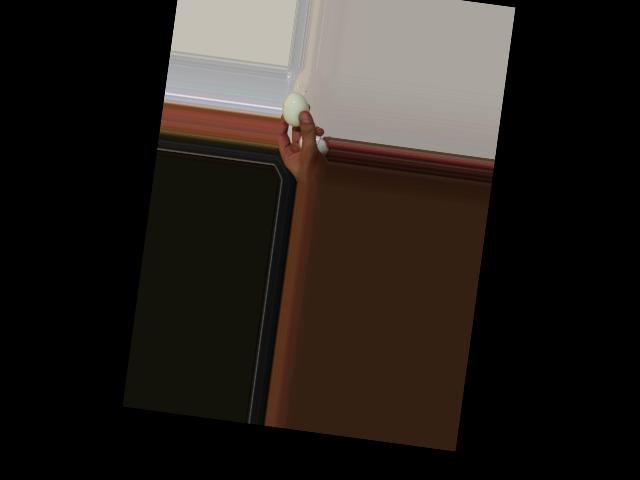egg: (280, 91, 312, 128)
